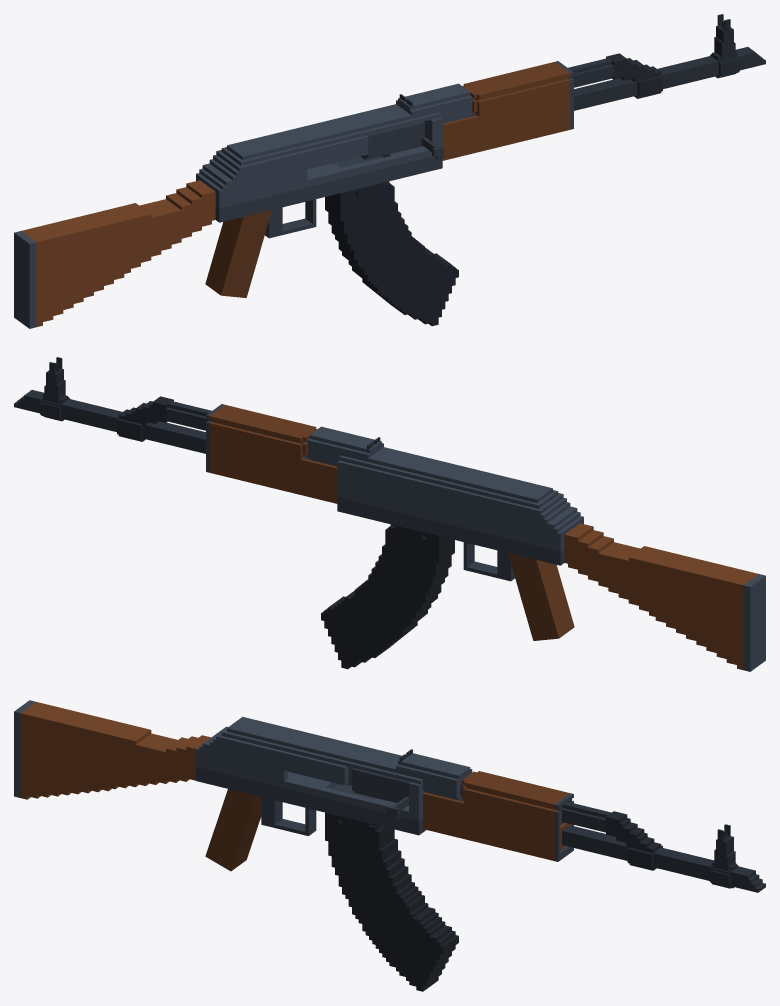
The model's file is rifle_ak.glb.
3 views of the same model, one above another, from view 1: azimuth 30°, elevation 25°; view 2: azimuth 150°, elevation 25°; view 3: azimuth 330°, elevation 25° (orthographic).
Visible parts, largest first — view 1: stock:stock, receiver:ak-receiver, magazine:magazine, handguard:handguard, lower:lower, grip:grip, barrel:barrel, bolt-carrier:bolt-carrier, gas-block:gas-block, front-sight:front-sight, gas-cylinder:gas-cylinder; view 2: receiver:ak-receiver, stock:stock, magazine:magazine, handguard:handguard, lower:lower, grip:grip, barrel:barrel, gas-block:gas-block, front-sight:front-sight, gas-cylinder:gas-cylinder; view 3: receiver:ak-receiver, stock:stock, magazine:magazine, handguard:handguard, lower:lower, grip:grip, barrel:barrel, gas-block:gas-block, bolt-carrier:bolt-carrier, front-sight:front-sight, gas-cylinder:gas-cylinder, muzzle-device:ak-muzzle-device.
Boxes of the visible parts, box(x1,y1,x2,y2) form: stock:stock: box(14, 180, 215, 328); receiver:ak-receiver: box(196, 83, 472, 208); magazine:magazine: box(325, 181, 458, 326); handguard:handguard: box(442, 61, 573, 160); lower:lower: box(215, 156, 442, 238); grip:grip: box(205, 210, 271, 297); barrel:barrel: box(470, 49, 745, 116); bolt-carrier:bolt-carrier: box(361, 121, 443, 159); gas-block:gas-block: box(606, 53, 662, 98); front-sight:front-sight: box(710, 14, 740, 78); gas-cylinder:gas-cylinder: box(472, 58, 613, 112); receiver:ak-receiver: box(307, 426, 583, 551); stock:stock: box(564, 523, 765, 671); magazine:magazine: box(321, 524, 454, 669); handguard:handguard: box(206, 404, 337, 503); lower:lower: box(337, 497, 564, 581); grip:grip: box(508, 553, 574, 640); barrel:barrel: box(34, 392, 309, 459); gas-block:gas-block: box(117, 396, 173, 441); front-sight:front-sight: box(39, 357, 69, 421); gas-cylinder:gas-cylinder: box(166, 401, 307, 455); receiver:ak-receiver: box(196, 716, 472, 821); stock:stock: box(14, 700, 210, 799); magazine:magazine: box(325, 812, 458, 991); handguard:handguard: box(423, 771, 573, 861); lower:lower: box(196, 767, 425, 836); grip:grip: box(205, 789, 261, 871); barrel:barrel: box(459, 798, 745, 887); gas-block:gas-block: box(606, 811, 662, 870); bolt-carrier:bolt-carrier: box(352, 768, 410, 820); front-sight:front-sight: box(709, 824, 738, 888); gas-cylinder:gas-cylinder: box(460, 784, 611, 832); muzzle-device:ak-muzzle-device: box(738, 868, 765, 892).
Size of the model in its own units: 0.876 by 0.26 by 0.072.
